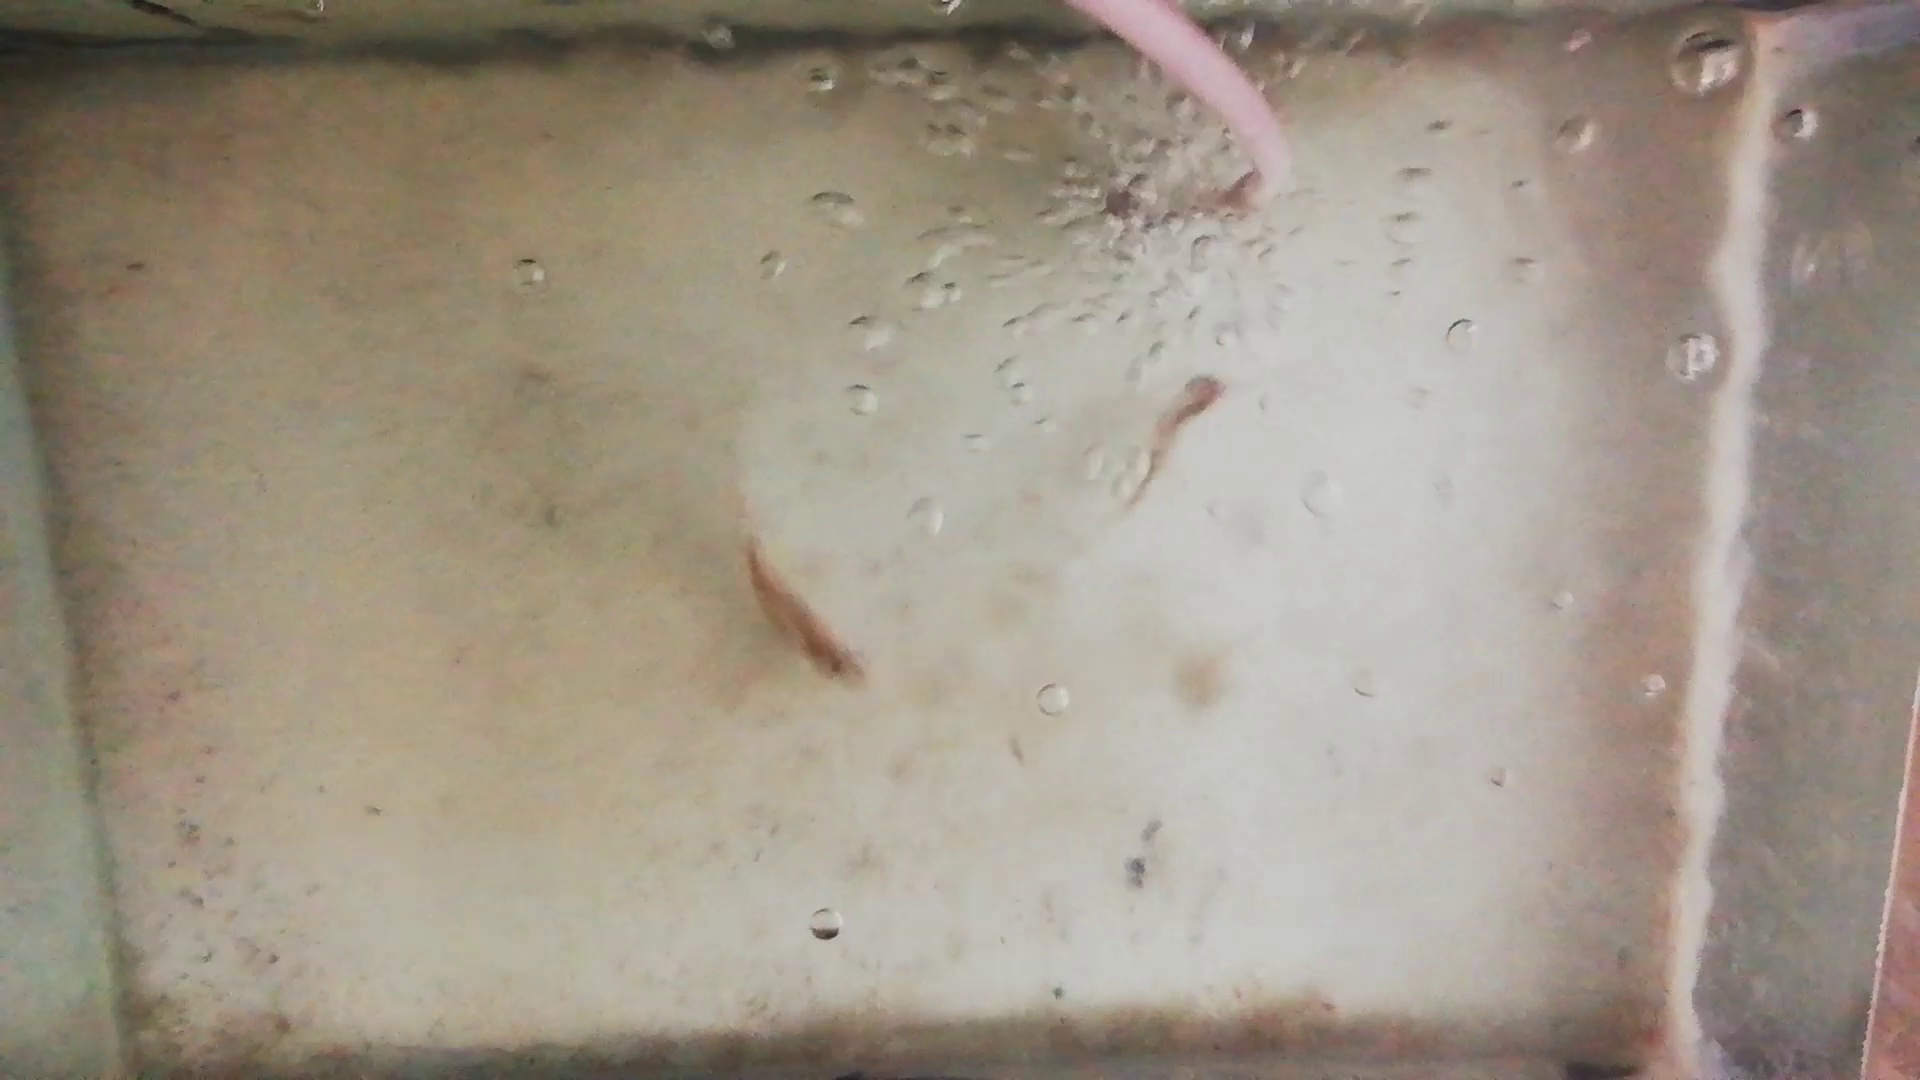fish: (742, 524, 873, 691), (1133, 376, 1225, 506)
